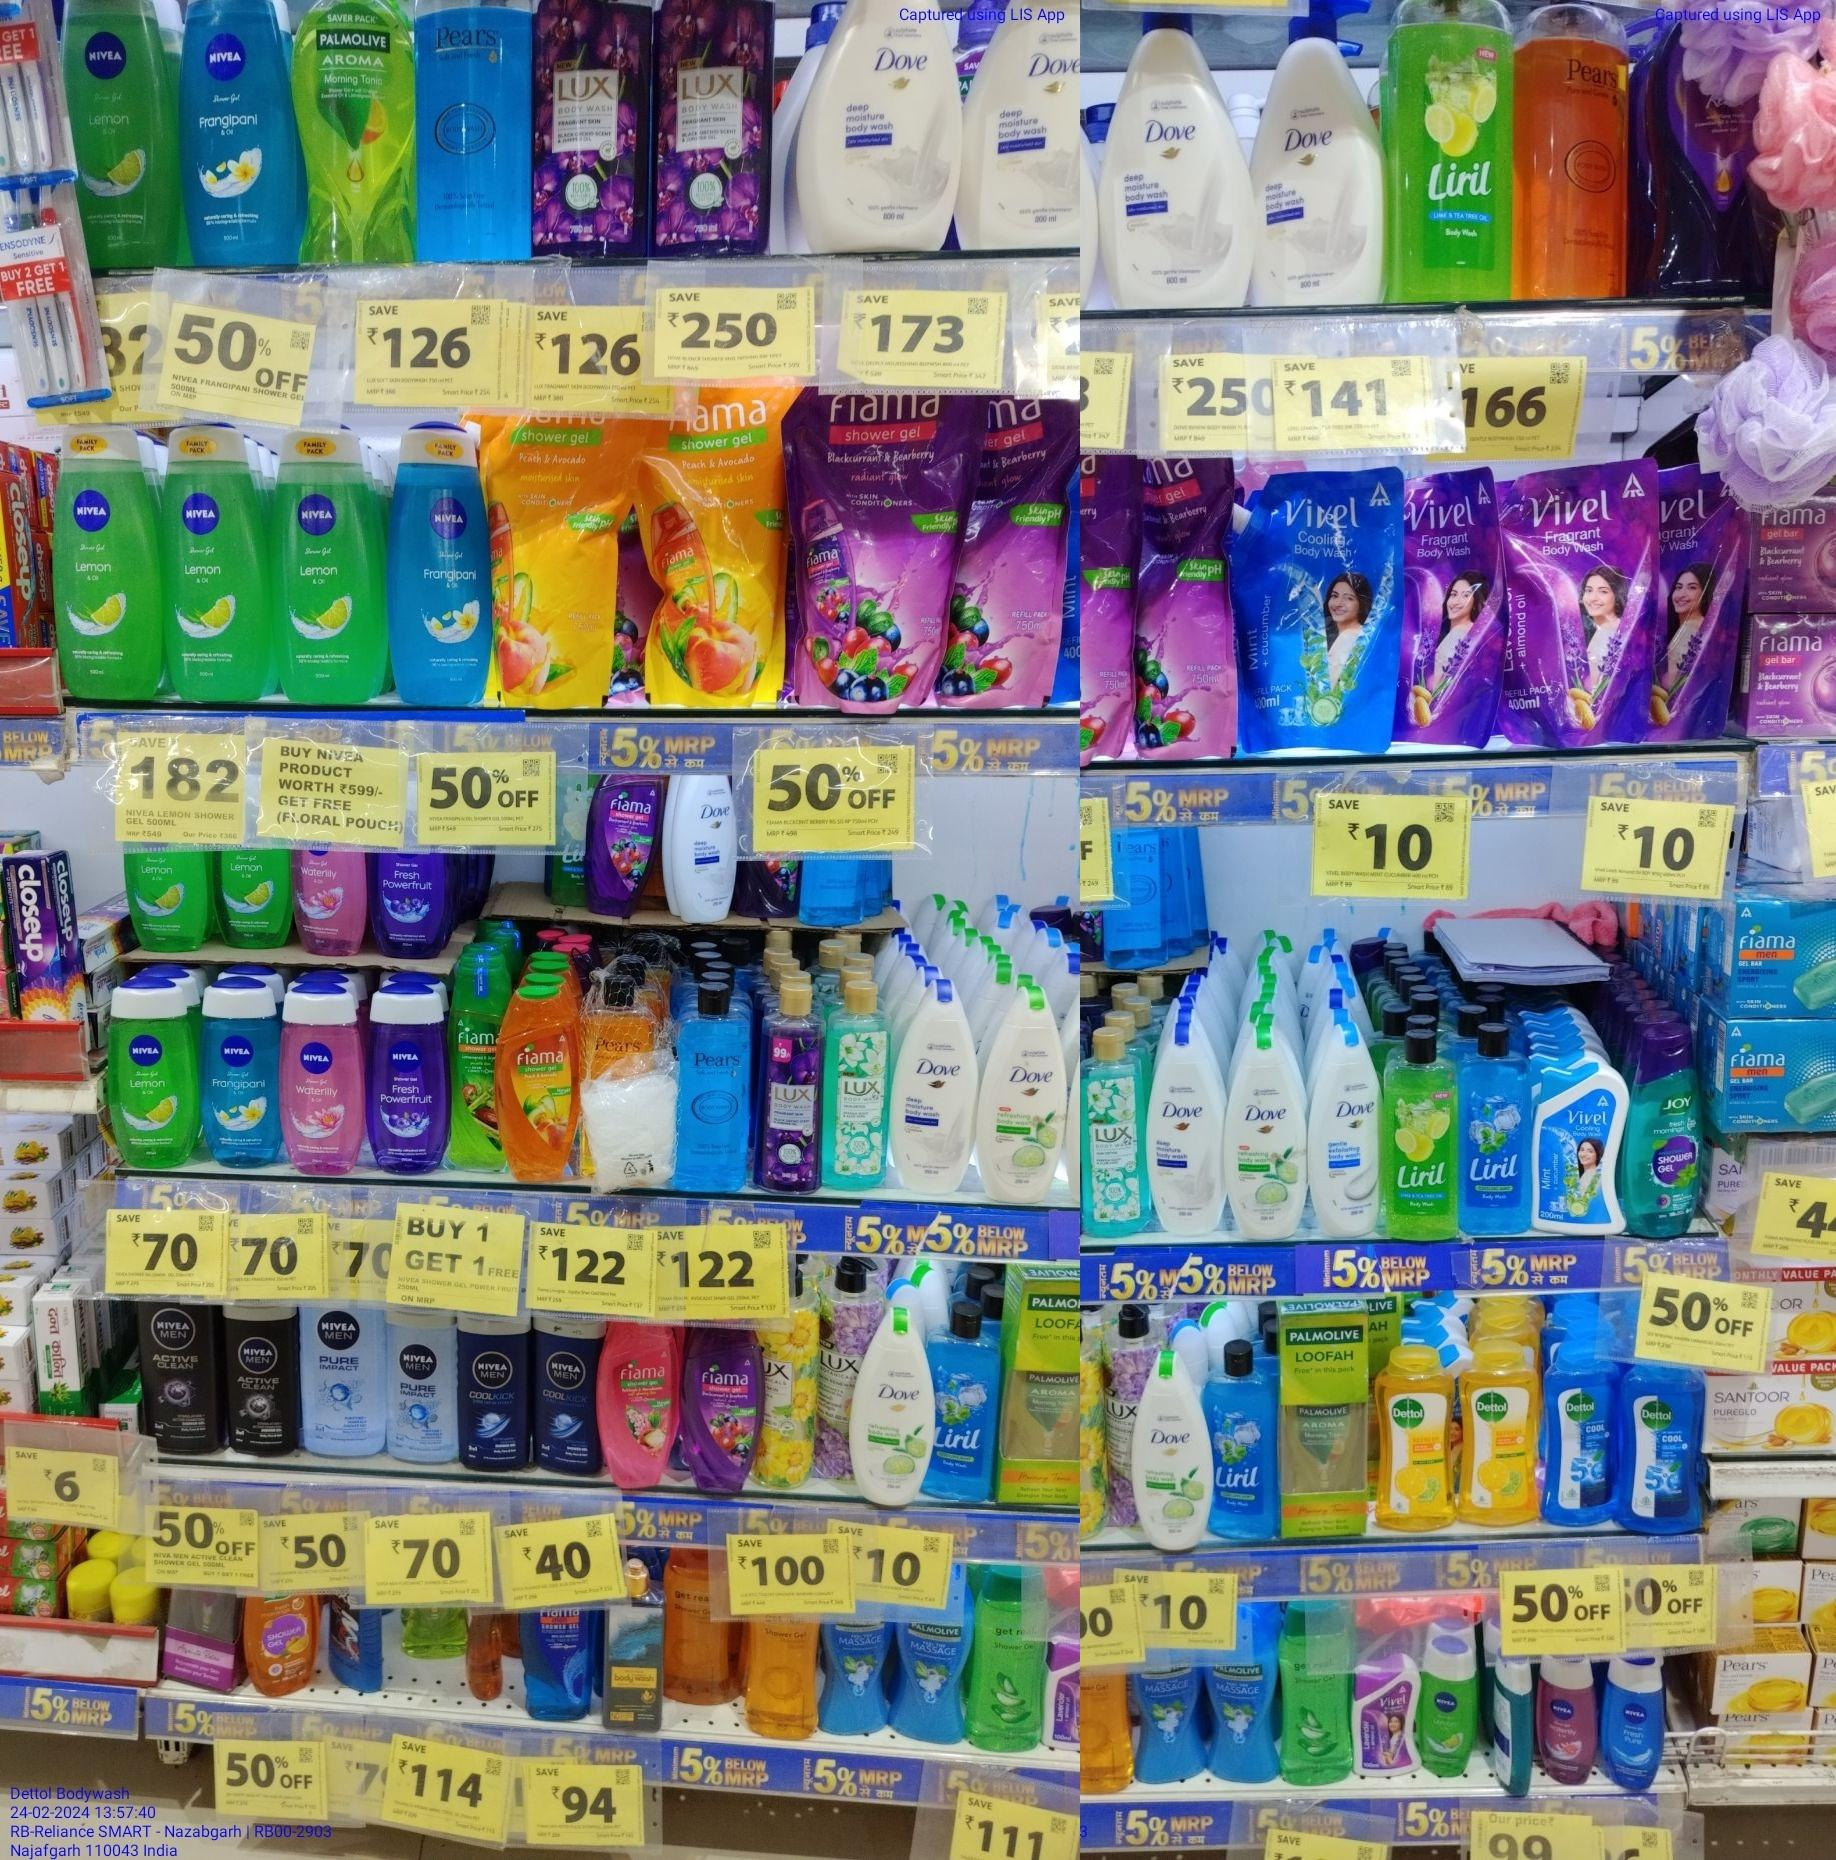Dettol_Bodywash_Cool: (1622, 1347, 1698, 1534), (1547, 1342, 1619, 1522)
Dettol_Bodywash_Refresh: (1456, 1350, 1537, 1527), (1377, 1345, 1453, 1530)
Dove_Deep_Moisture_Body_Wash_250ML: (896, 980, 975, 1196), (1153, 1033, 1226, 1238), (678, 775, 736, 922)
Dove_Gentle_Exfoliating_Body_Wash_250ML: (1315, 1022, 1377, 1236)
Dove_Refreshing_Body_Wash_250ML: (982, 985, 1068, 1196), (849, 1310, 935, 1512), (1231, 1024, 1308, 1243), (1130, 1344, 1211, 1551)
Fiama_Shower_Gel_Patchouli_and_Macadamia_250ML: (599, 1313, 678, 1498)
Fiama_Shower_Gel_Peach_and_Avocado_250ML: (491, 965, 580, 1187)
Get_Real_Shower_Gel_Moisturising_Glycerin_300ML: (664, 1554, 730, 1704), (748, 1626, 819, 1742), (1079, 1677, 1135, 1794)
Joy_Shower_Gel_Mandarin_and_Lemongrass_250ML: (244, 1591, 316, 1692)
Joy_Shower_Gel_Mint_and_Eucalyptus_250ML: (1631, 1026, 1705, 1234)
Liril_Cooling_Mint_Body_Wash_250ML: (1463, 1029, 1530, 1238), (1212, 1345, 1278, 1542), (938, 1298, 995, 1510)
Liril_Lime_and_Tea_Tree_Oil_Body_Wash_250ML: (1387, 1028, 1458, 1244)
Lux_Black_Orchid_Scent_and_Juniper_Oil_Body_Wash_245ML: (755, 969, 822, 1194)
Lux_Body_Wash_Skin_Detox_Freesia_Scent_and_Alove_Vera_245ML: (1086, 1034, 1148, 1236), (831, 979, 889, 1191)
Nivea_Shower_Gel_Frangipani_and_Oil_250ML: (188, 0, 306, 261), (388, 424, 489, 696), (203, 980, 281, 1177)
Nivea_Shower_Gel_Fresh_Powerfruit_250ML: (368, 989, 444, 1170), (378, 851, 452, 962)
Nivea_Shower_Gel_Lemon_and_Oil_250ML: (49, 432, 163, 703), (277, 434, 382, 700), (74, 2, 173, 272), (175, 427, 271, 705), (106, 980, 195, 1176), (128, 844, 212, 947), (219, 843, 291, 945)
Nivea_Shower_Gel_Waterlily_and_Oil_250ML: (286, 977, 358, 1170), (296, 848, 370, 959)
Palmolive_Aroma_Moments_Feel_The_Massage_Shower_Gel_250ML: (896, 1614, 968, 1744), (1212, 1663, 1281, 1783), (1140, 1668, 1207, 1781), (827, 1621, 888, 1734)
Pears_Pure_Glycerin_and_Mint_Extracts_Body_Wash_250ML: (678, 989, 748, 1186)
